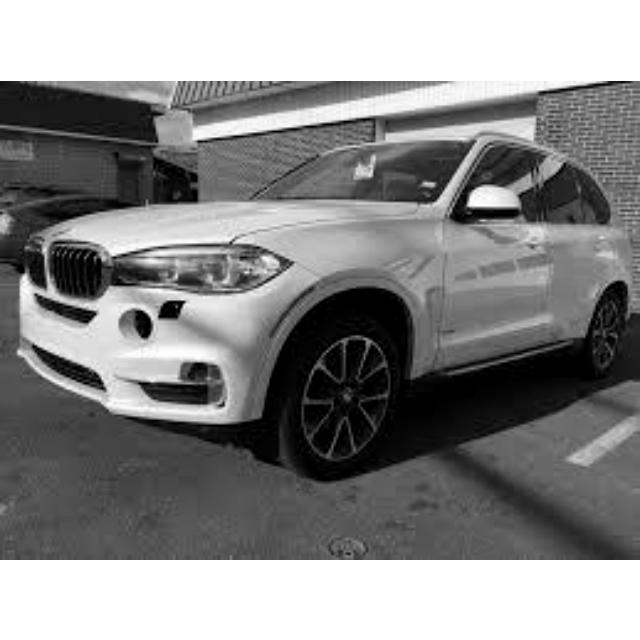front-bumper-dent: (60, 281, 282, 436)
